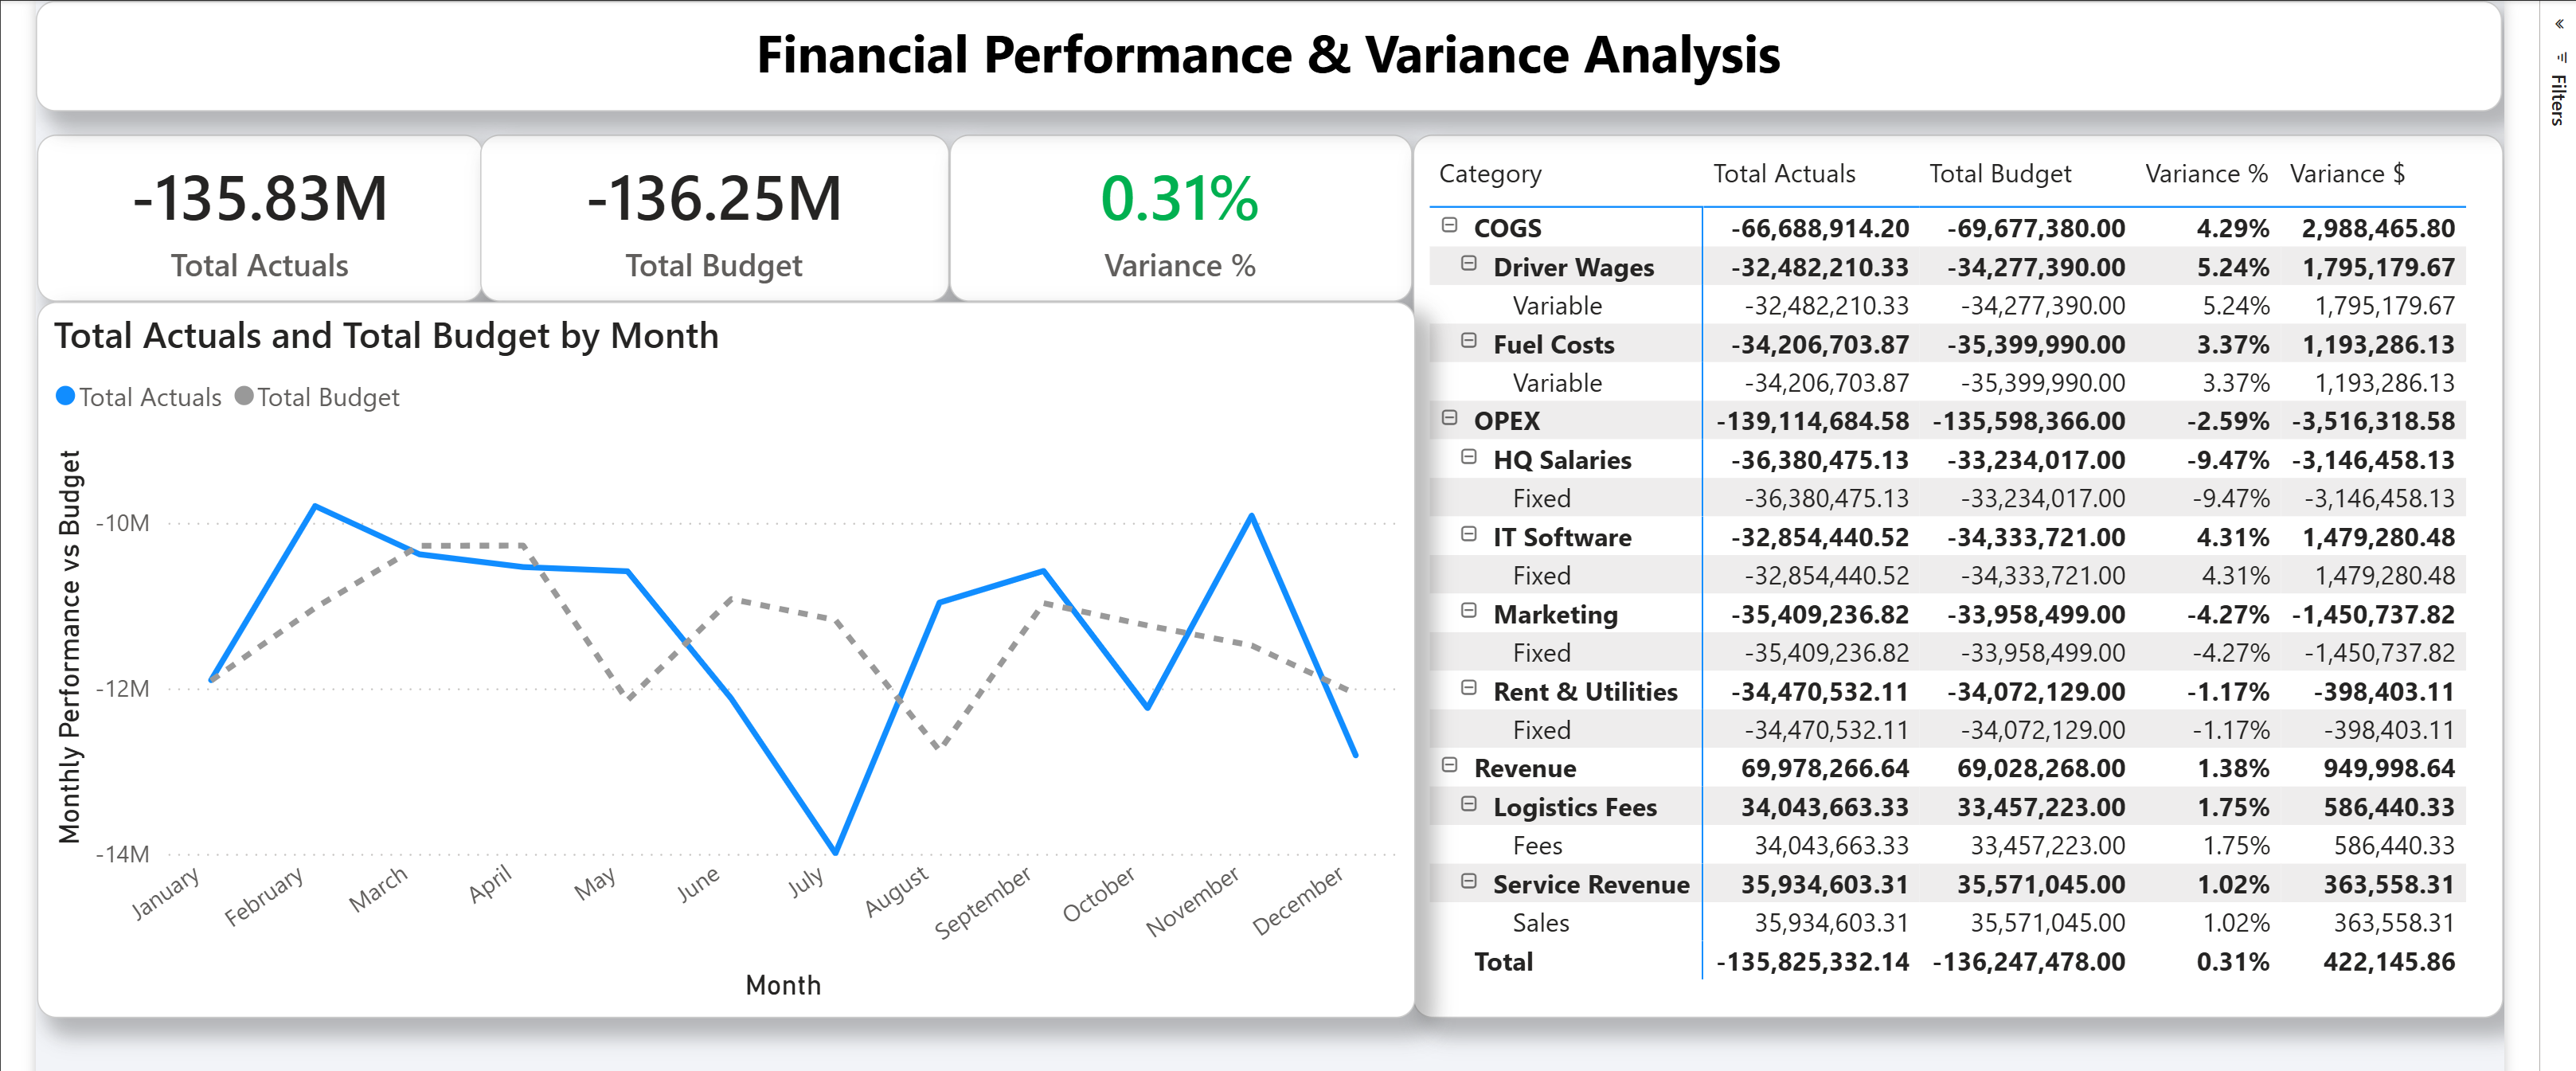

What the dashboard file says about the page in this screenshot:
{"tool":"powerbi","page":{"name":"Page 1","canvas":[1280,720],"ordinal":0},"visuals":[{"type":"card","fields":{"Values":["_Key Measures.Total Actuals"]},"box":[0.6,69.6,231.6,86.7],"z":0},{"type":"card","fields":{"Values":["_Key Measures.Total Budget"]},"box":[230.7,69.4,243.2,86.7],"z":1000},{"type":"card","fields":{"Values":["_Key Measures.Variance %"]},"box":[473.9,69.4,240.1,86.7],"z":2000},{"type":"pivotTable","fields":{"Rows":["dim_accounts.Category","dim_accounts.Account_Name","dim_accounts.Sub_Category"],"Values":["_Key Measures.Total Actuals","_Key Measures.Total Budget","_Key Measures.Variance %","_Key Measures.Variance $"]},"box":[714,69.4,565.4,458.3],"z":3000},{"type":"lineChart","fields":{"Category":["fact_financials.Date.Variation.Date Hierarchy.Month"],"Y":["_Key Measures.Total Actuals","_Key Measures.Total Budget"]},"box":[0.6,156.3,714.6,371.6],"z":4000},{"type":"actionButton","box":[0,0,100,40],"z":4002},{"type":"textbox","box":[0,0,1278.8,57.6],"z":4003}]}

Visuals, with their boxes on the page's 1280x720 design canvas (x1, y1, x2, y2). These are canvas units, not pixel positions in the 2576x1071 screenshot, which may show the page scaled, cropped or inside an application window:
card - _Key Measures.Total Actuals: <region>1, 70, 232, 156</region>
card - _Key Measures.Total Budget: <region>231, 69, 474, 156</region>
card - _Key Measures.Variance %: <region>474, 69, 714, 156</region>
pivotTable - dim_accounts.Category x dim_accounts.Account_Name: <region>714, 69, 1279, 528</region>
lineChart - fact_financials.Date.Variation.Date Hierarchy.Month x _Key Measures.Total Actuals: <region>1, 156, 715, 528</region>
actionButton: <region>0, 0, 100, 40</region>
textbox: <region>0, 0, 1279, 58</region>
